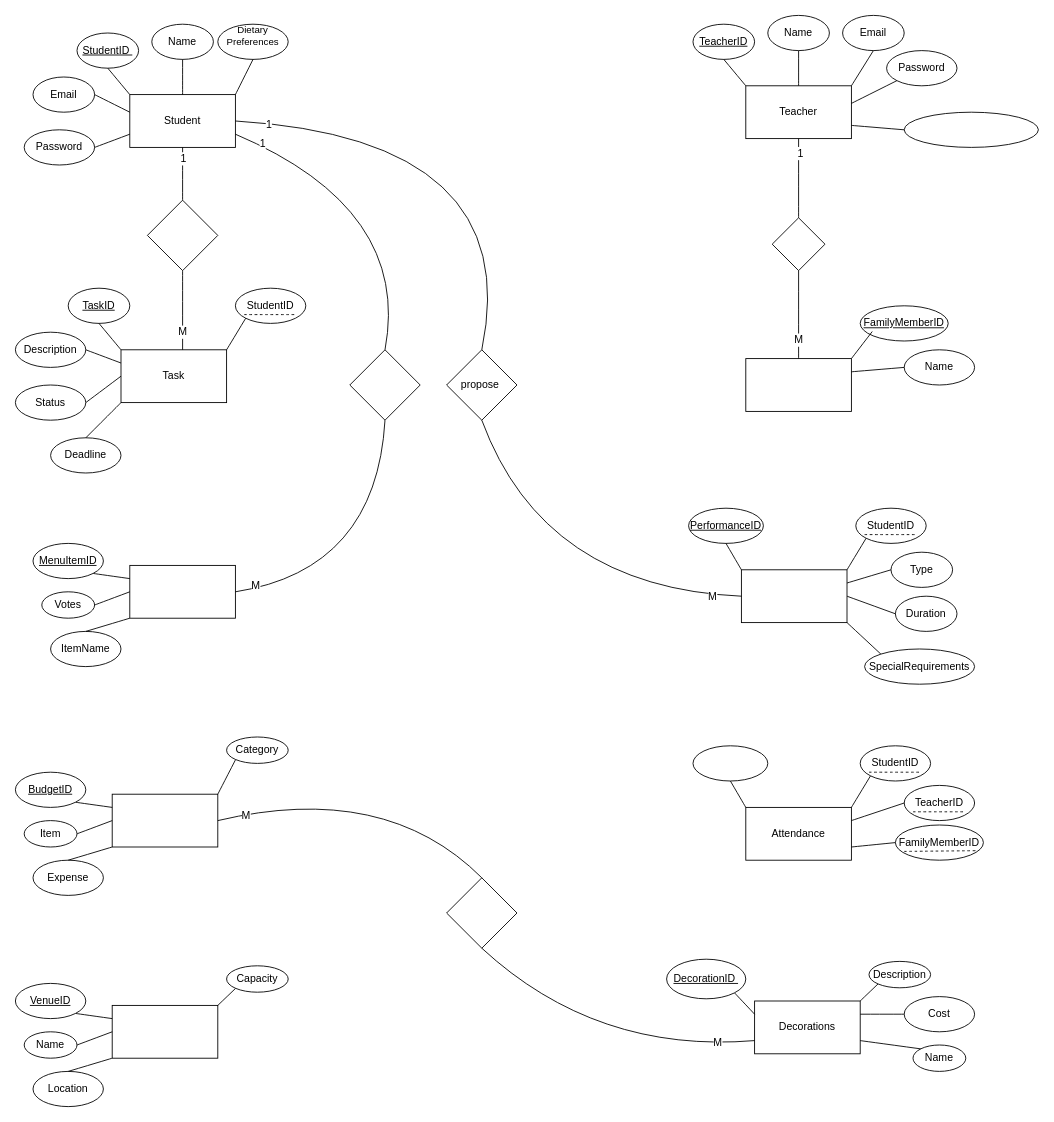
Some shapes in this 1054 by 1122 pixel diagram are drawn without their labels. Here are the shapes that lost their labels. From the top down, the box of each, then its label:
(903, 111, 1038, 147): No._of_family_member
(147, 199, 218, 271): assigned
(771, 217, 825, 271): Has
(349, 349, 420, 420): suggest
(745, 358, 851, 411): FamilyMember
(129, 565, 235, 618): Menu Item
(741, 569, 847, 623): Performance
(692, 745, 768, 781): AttendanceID
(111, 793, 218, 847): Budget
(446, 877, 517, 948): associated
(111, 1005, 218, 1058): Venue
